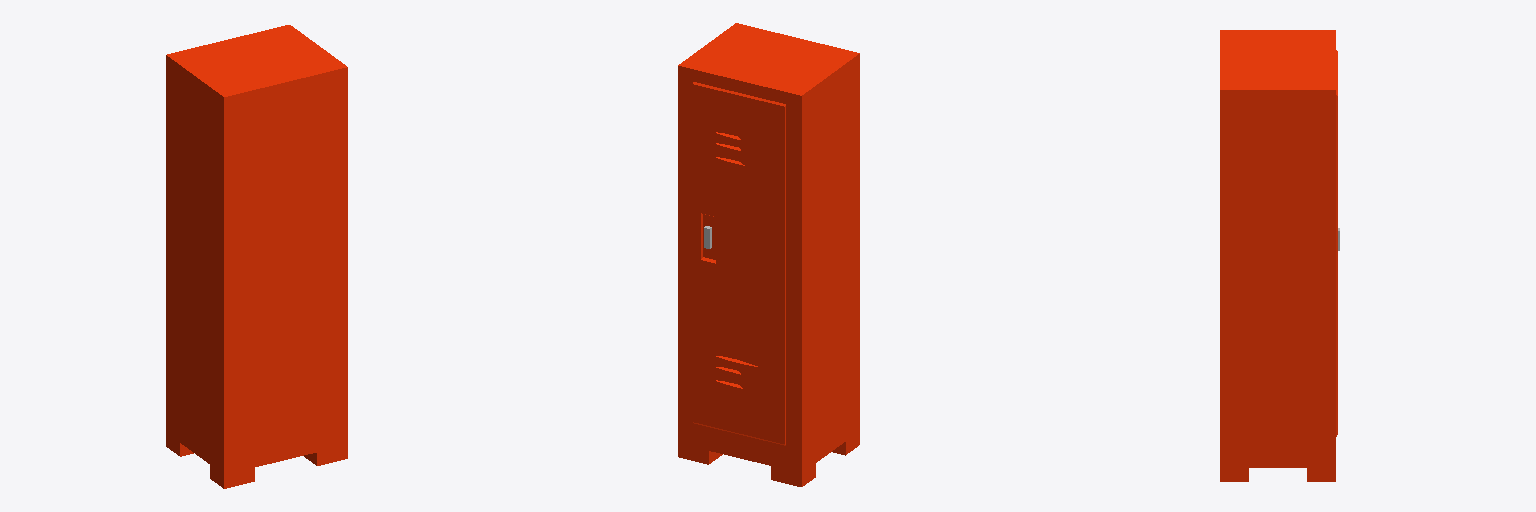
File: lockerorange.obj
The picture shows the model from 3 angles: view 1: azimuth 30°, elevation 25°; view 2: azimuth 150°, elevation 25°; view 3: azimuth 270°, elevation 25°; orthographic projection.
Parts seen in each view (by area): view 1: Cube_Cube.041; view 2: Cube_Cube.041; view 3: Cube_Cube.041.
Boxes of the visible parts, box(x1,y1,x2,y2) form: Cube_Cube.041: box(166, 25, 347, 488); Cube_Cube.041: box(678, 23, 859, 486); Cube_Cube.041: box(1220, 30, 1339, 481).
Size of the model in its own units: 1.65 by 4.96 by 1.39.